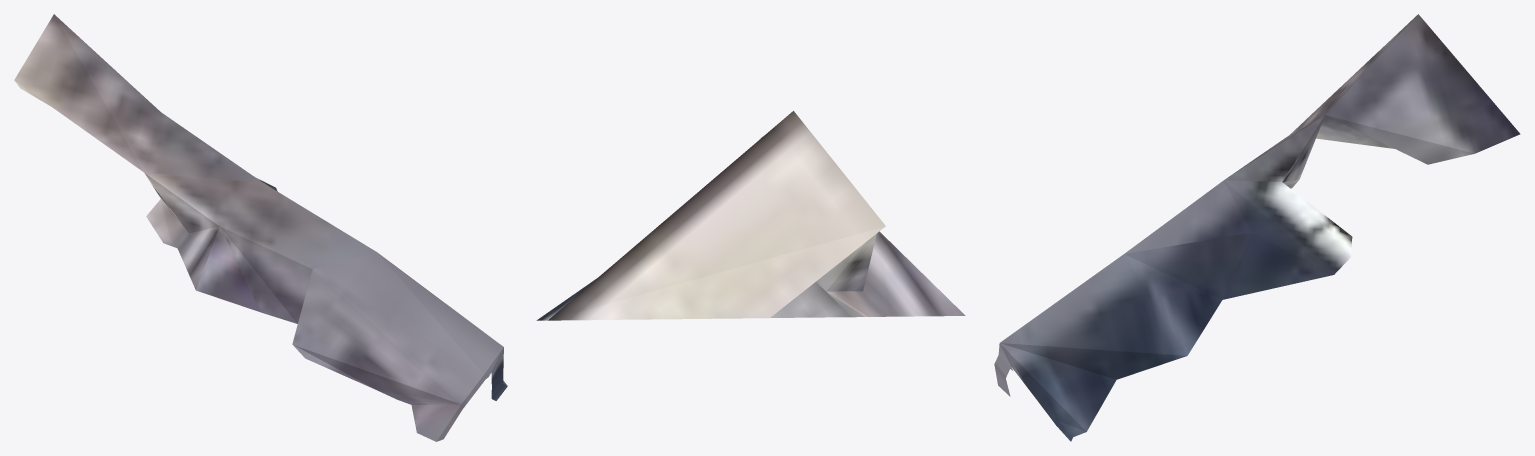
The picture shows the model from 3 angles, left to right: view 1: azimuth 30°, elevation 25°; view 2: azimuth 150°, elevation 25°; view 3: azimuth 270°, elevation 25°; orthographic projection. The views are drawn at different scales.
Size of the model in its own units: 8.34 by 7.99 by 12.47.
Materials: 1 (1 with a texture image).
